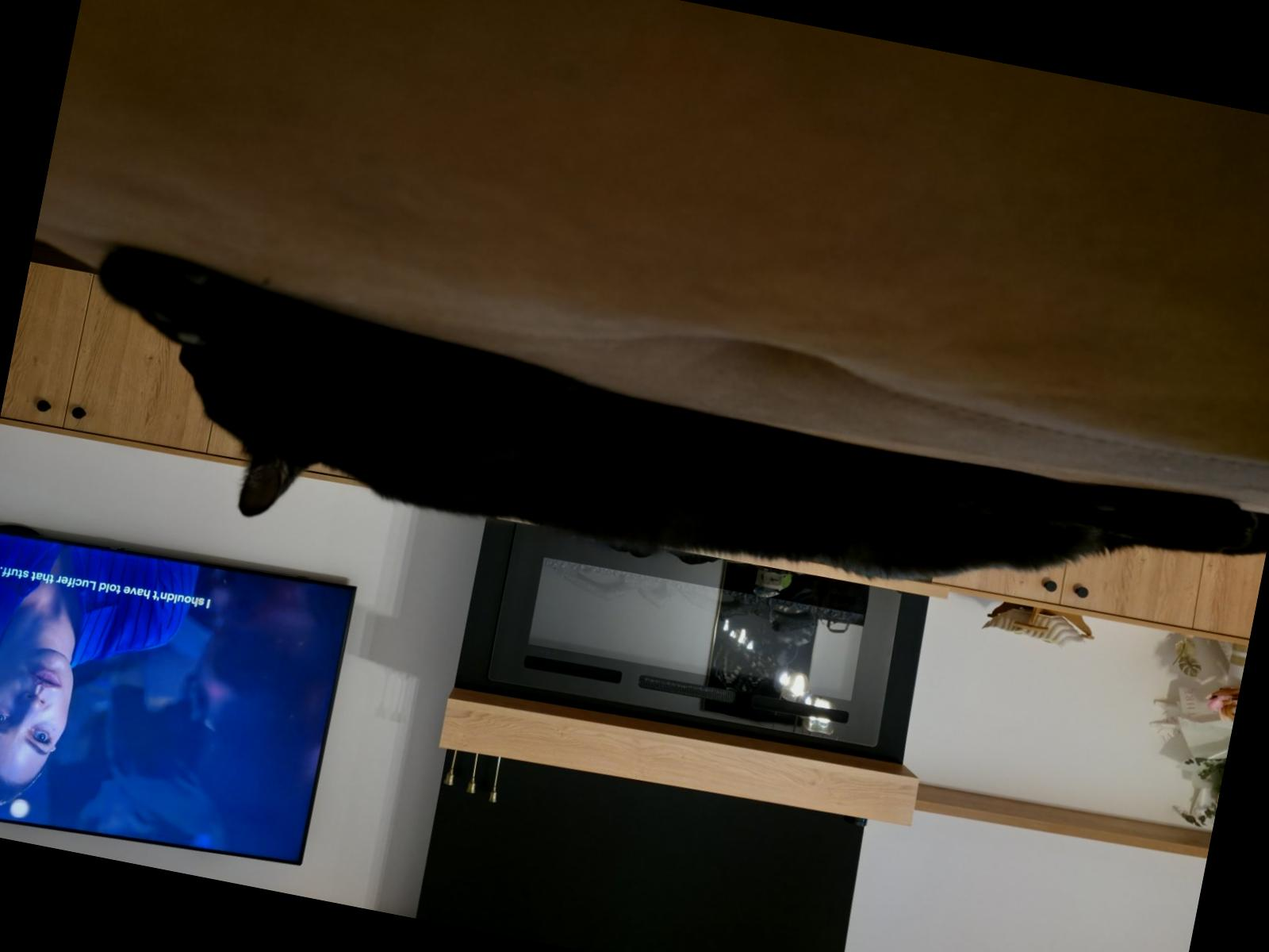macka: (55, 240, 1269, 713)
